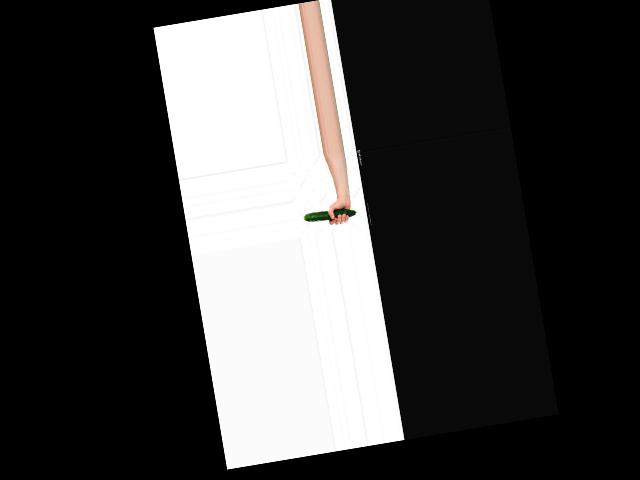cucumber: (303, 205, 357, 224)
